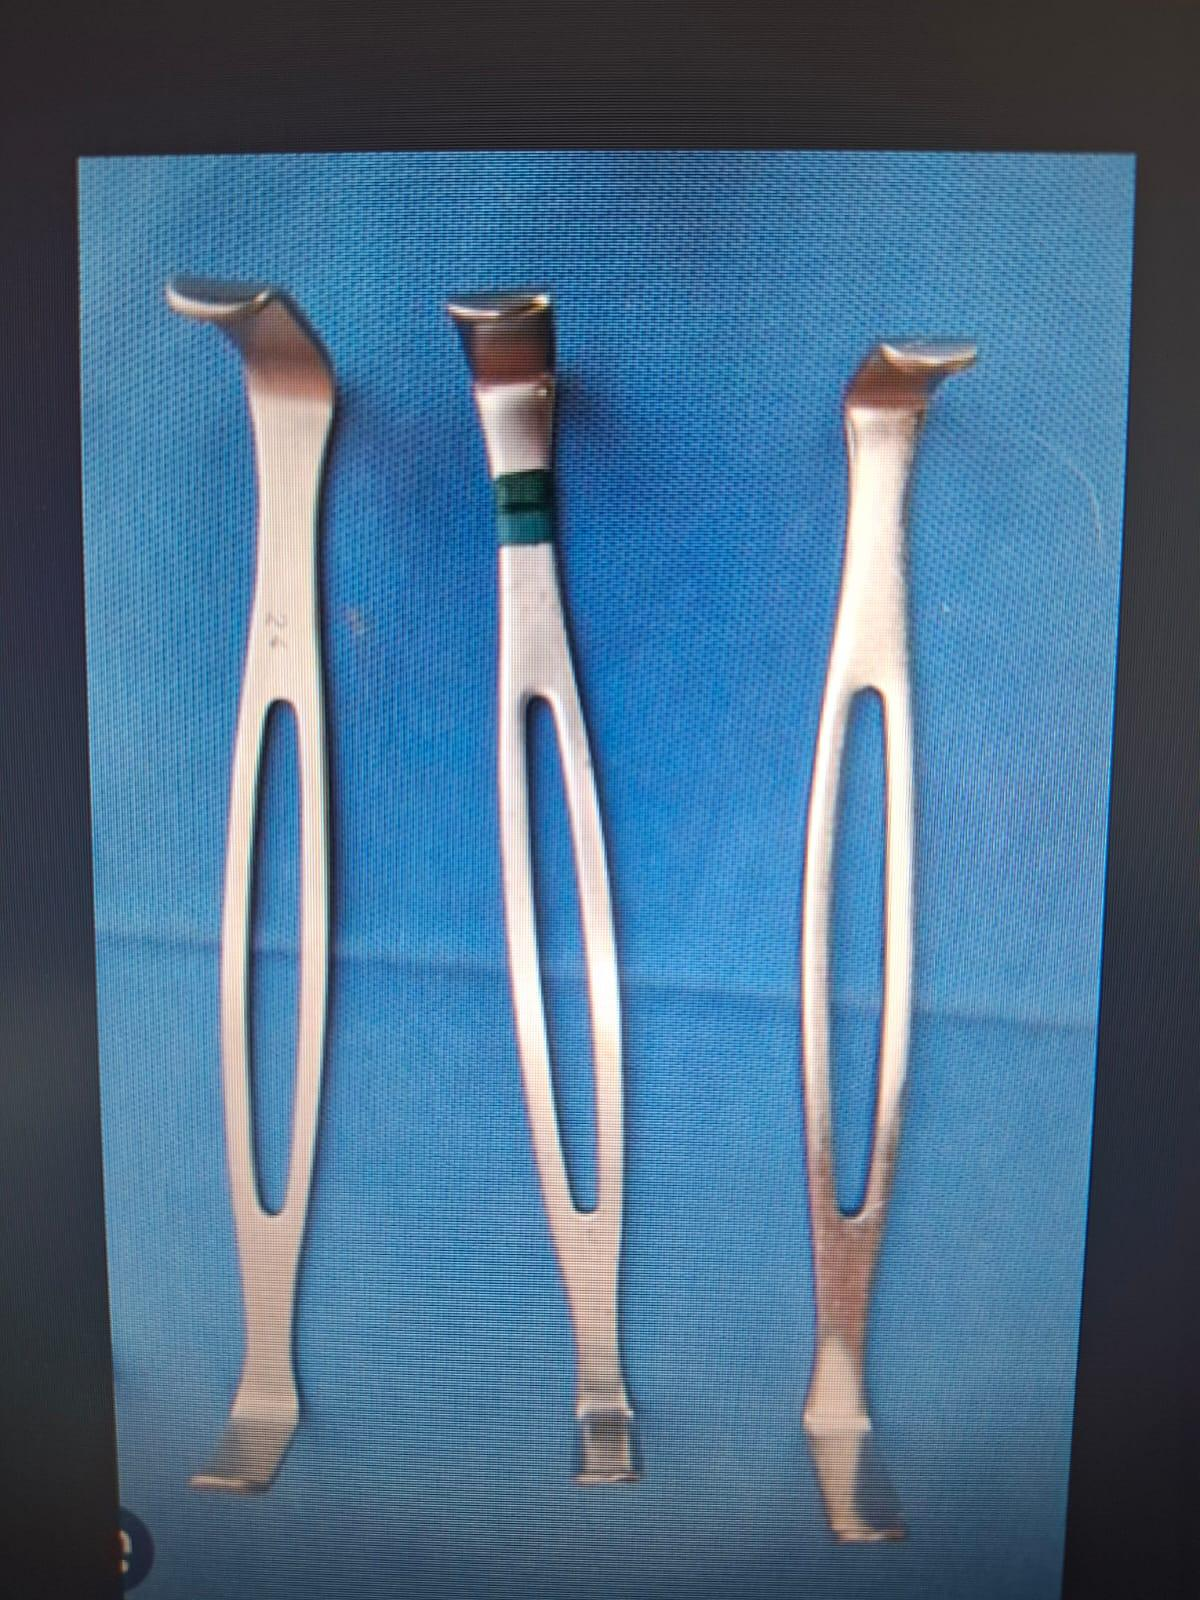Army Navy Retractor: (142, 249, 415, 1516), (768, 325, 982, 1562)
